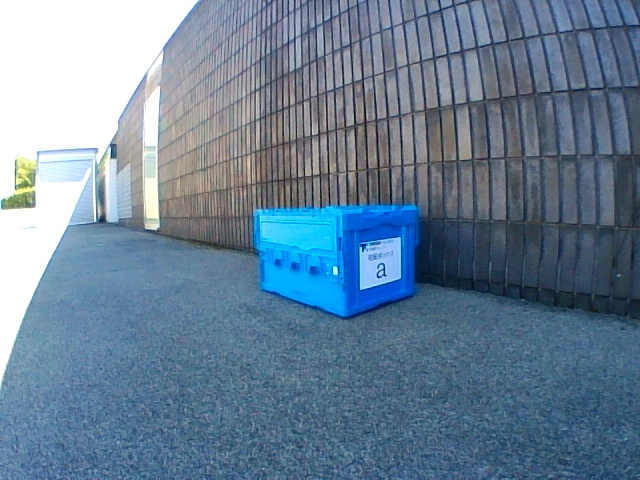blue_box: (253, 205, 417, 318)
tag_a: (366, 245, 392, 280)
